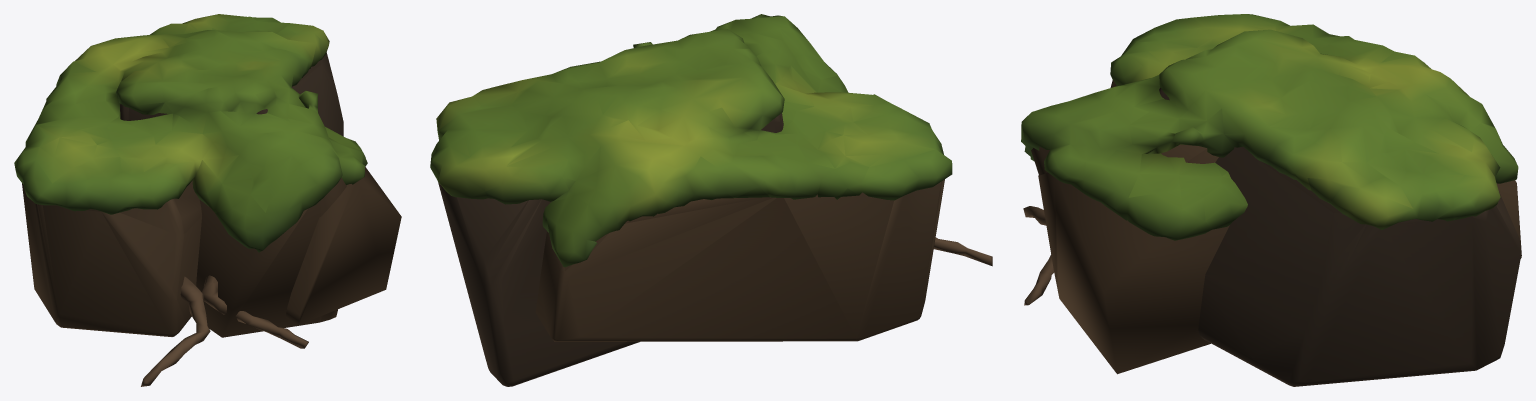
File: mire_peat_clod_b_lod1.glb
The picture shows the model from 3 angles, left to right: view 1: azimuth 30°, elevation 25°; view 2: azimuth 150°, elevation 25°; view 3: azimuth 270°, elevation 25°; orthographic projection. The views are drawn at different scales.
Parts seen in each view (by area): view 1: mire_peat_clod_b.001; view 2: mire_peat_clod_b.001; view 3: mire_peat_clod_b.001.
Part boxes in pixels (x1,y1,x2,y2): mire_peat_clod_b.001: (14, 14, 401, 386); mire_peat_clod_b.001: (430, 14, 992, 386); mire_peat_clod_b.001: (1021, 14, 1521, 386).
Bounding box in the file's own units: 10.53 × 6.1 × 10.5.
